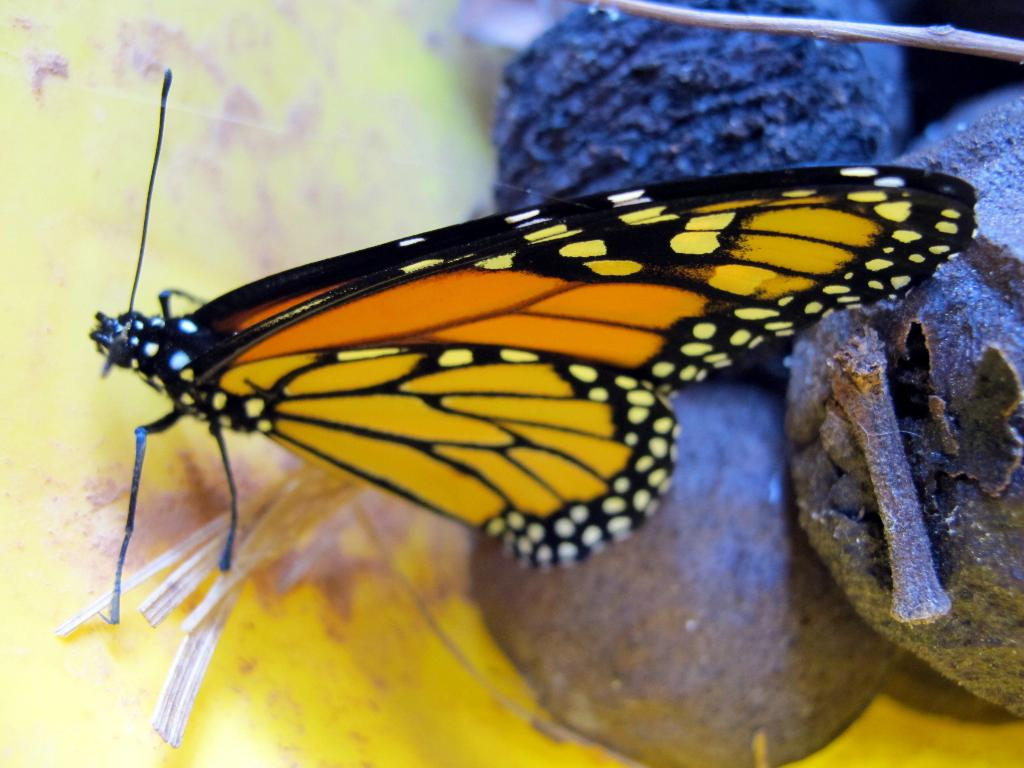Butterfly: (48, 54, 970, 662)
